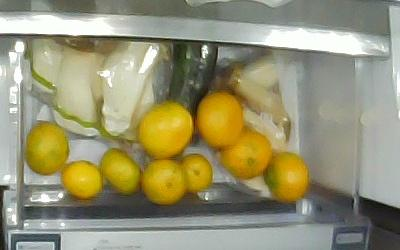tangerine: (135, 99, 194, 159), (195, 90, 242, 147), (220, 127, 272, 178), (24, 120, 70, 175), (263, 150, 309, 202), (140, 157, 186, 205), (97, 146, 142, 193), (59, 158, 102, 198), (179, 152, 213, 192)
